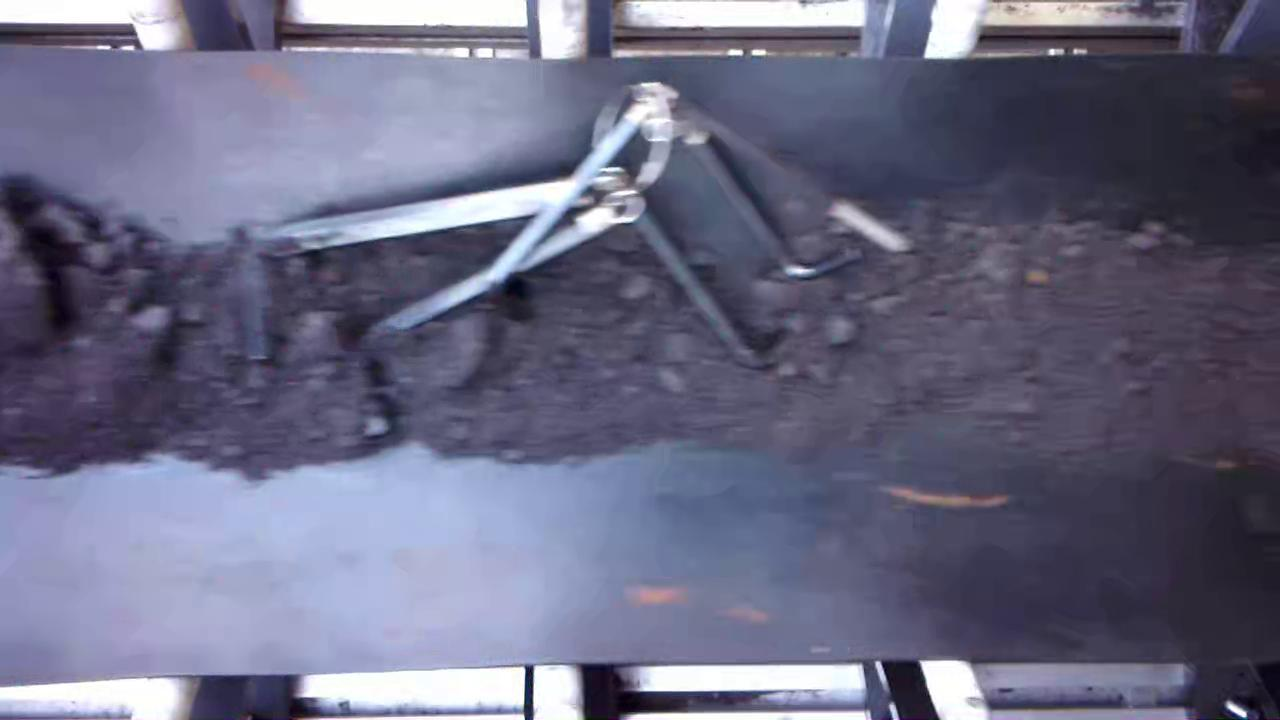conveyor: (1, 63, 1280, 656)
